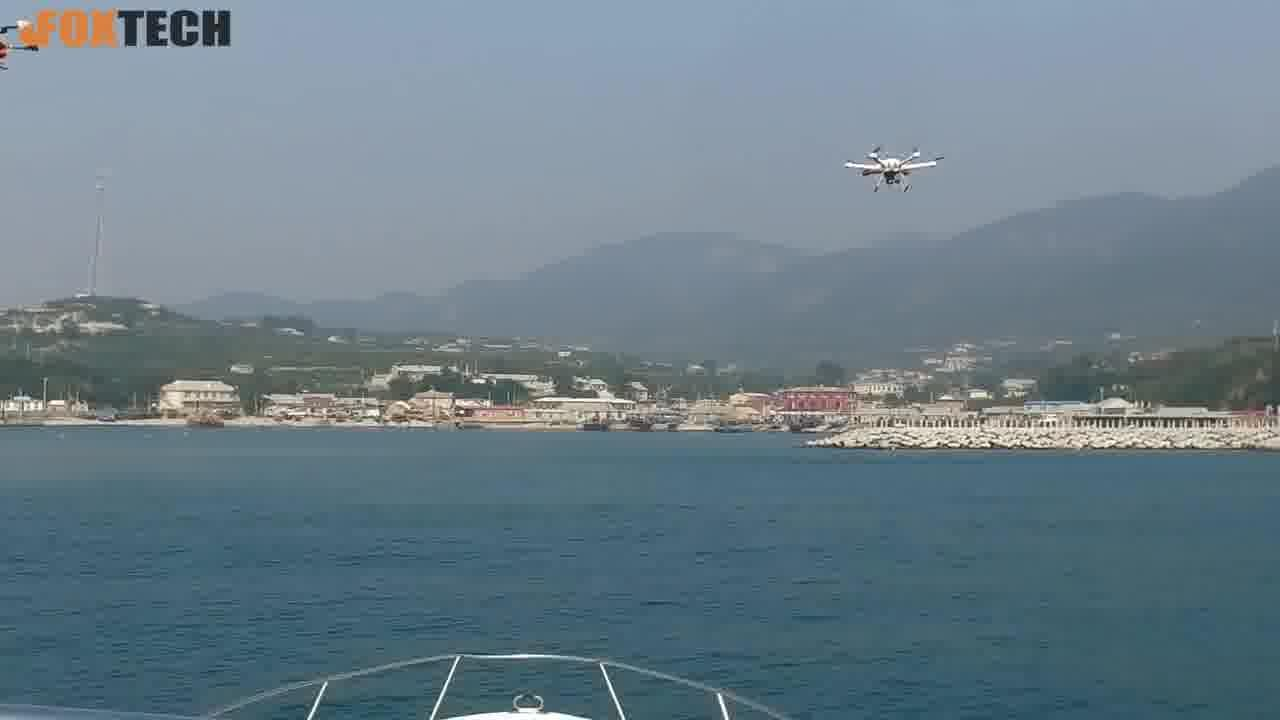drone: (833, 125, 949, 199)
